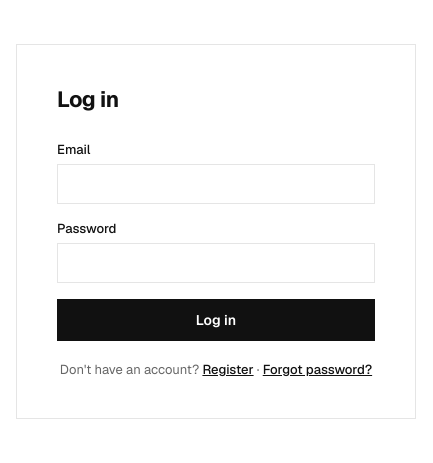
Test: LoginPage › shows an error message when login fails
This screenshot has width=433, height=463.
Step 1. Type "user@example.com" into the field labelled "Email" → (216, 184), box [57,164,375,204]
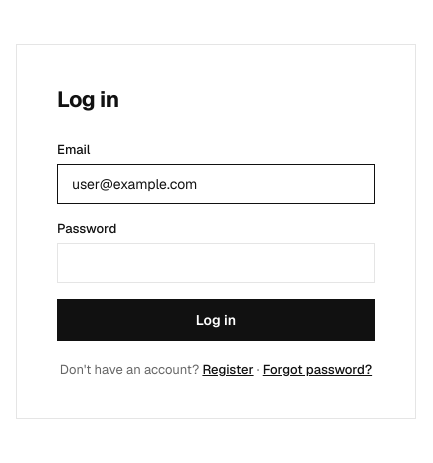
Step 2. Type "wrongpassword" into the password field labelled "Password" → (216, 262), box [57,242,375,282]
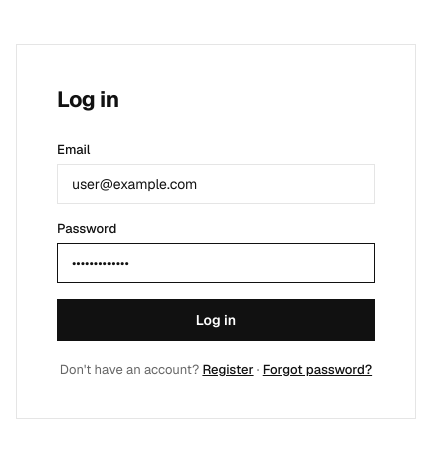
Step 3. Click the button "Log in" → (216, 320), box [57,298,375,340]
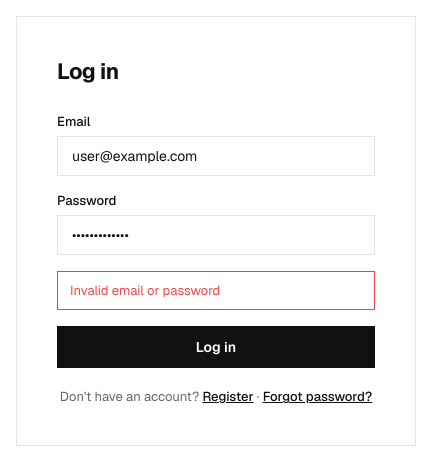
Expected: the message reads "Invalid email or password", [70,282,220,299]
